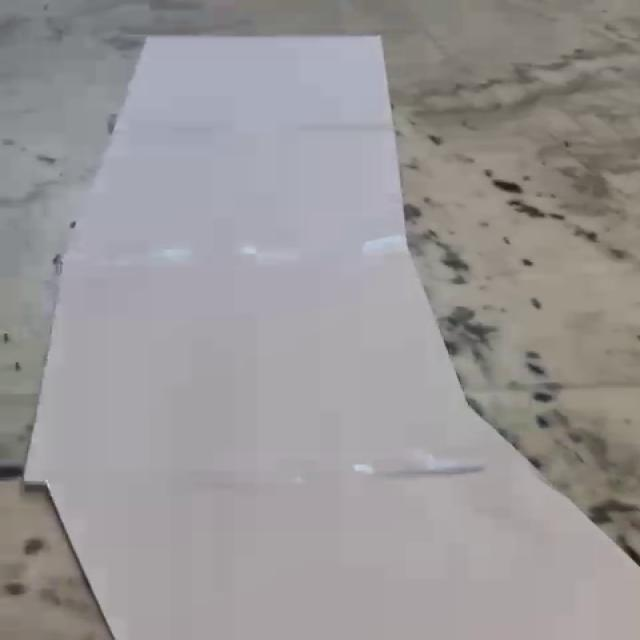road: (23, 35, 640, 640)
